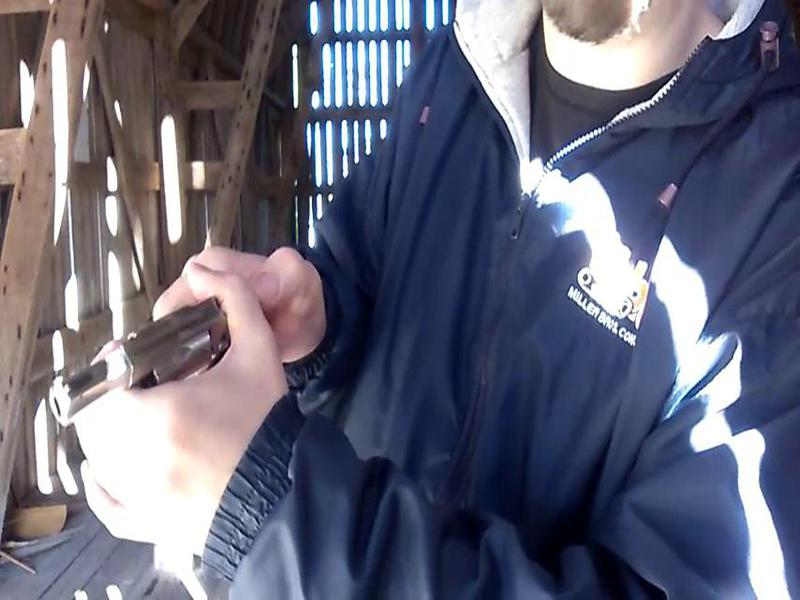Revolver: (51, 297, 262, 461)
